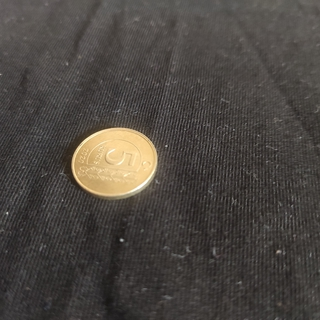5KURUS: (69, 124, 159, 202)
